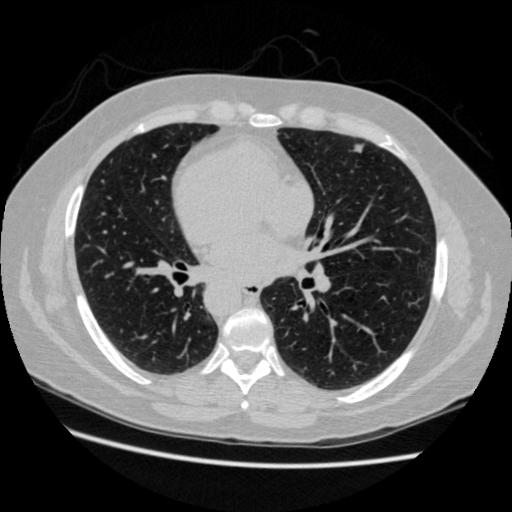nodule: (354, 142, 367, 155)
